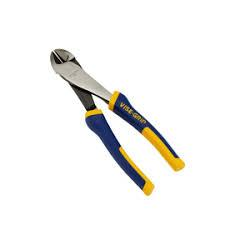pliers: (49, 47, 184, 195)
